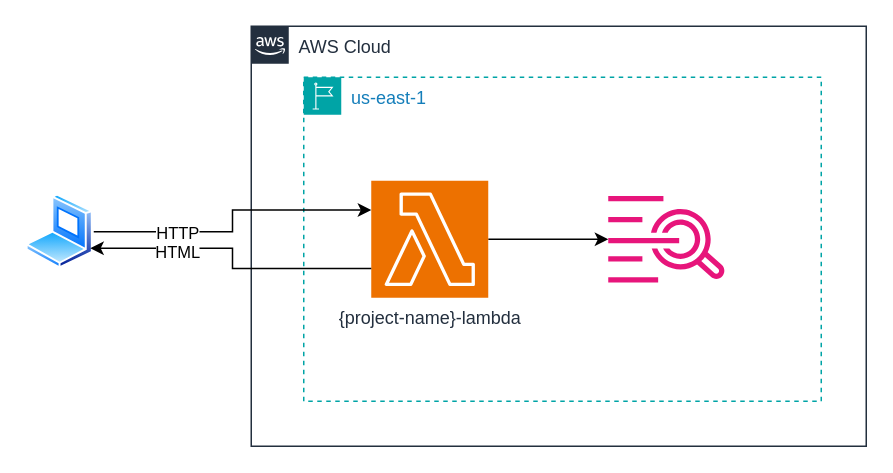
The diagram is 893 pixels wide and 473 high, and some of its shapes have lost their labels. The centre of each missing label's shape, as x and y in pixels:
Client: pixel 59 231
{project-name}-logs: pixel 666 238
